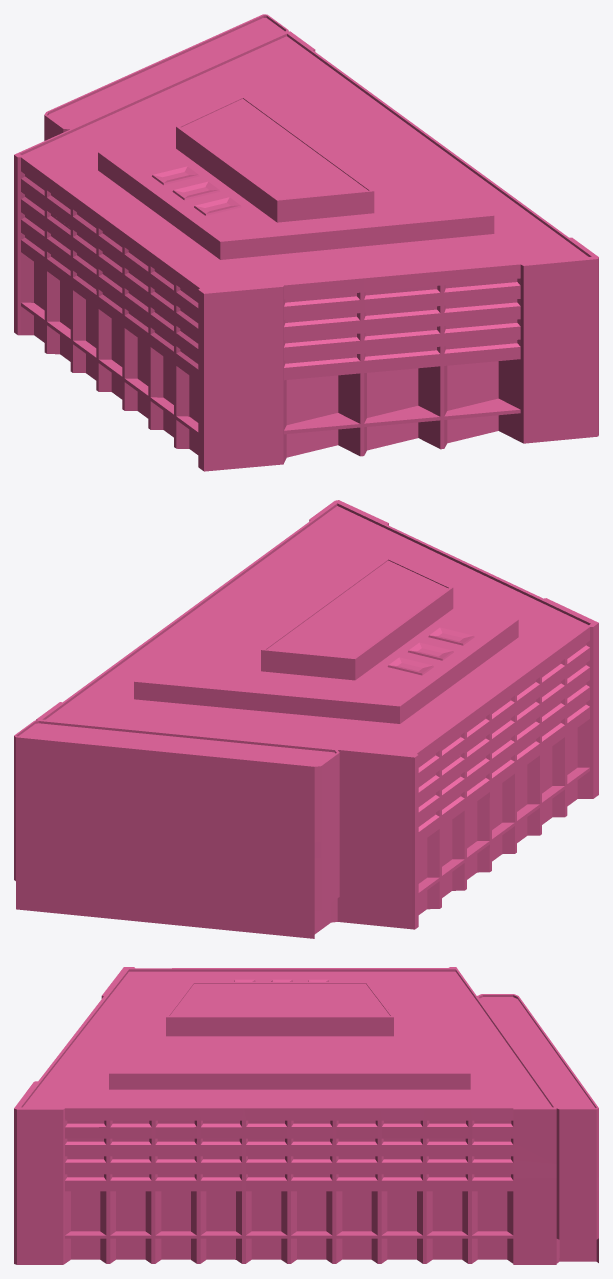
Rendered from bigpink_sub.fbx.
The picture shows the model from 3 angles, top to bottom: view 1: azimuth 30°, elevation 25°; view 2: azimuth 150°, elevation 25°; view 3: azimuth 270°, elevation 25°; orthographic projection. The views are drawn at different scales.
Visible parts, largest first — view 1: Plane; view 2: Plane; view 3: Plane.
Part boxes in pixels (x1,y1,x2,y2): Plane: (14,14,598,471); Plane: (14,500,598,938); Plane: (14,967,598,1264).
Bounding box in the file's own units: 5813 × 3582 × 10089.
Materials: 1 (1 with a texture image).
